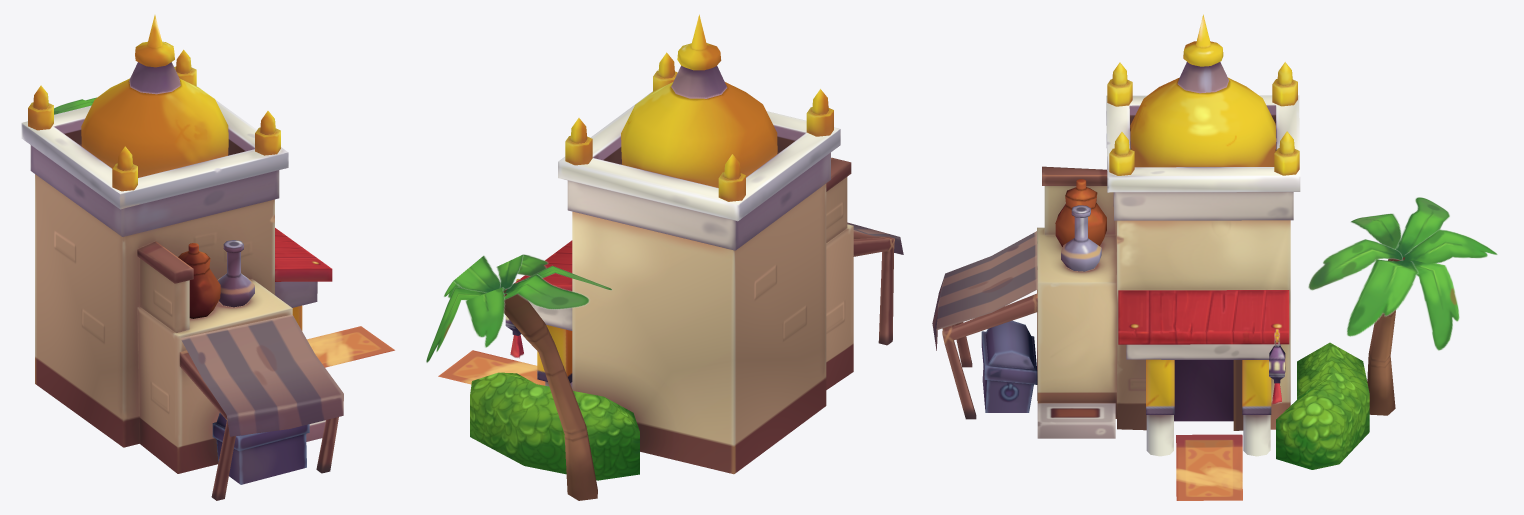
The model's file is stylized_house.glb.
3 views of the same model, side by side, from view 1: azimuth 30°, elevation 25°; view 2: azimuth 150°, elevation 25°; view 3: azimuth 270°, elevation 25° (orthographic). The views are drawn at different scales.
Visible parts, largest first — view 1: House; view 2: House; view 3: House.
Part boxes in pixels (x1,y1,x2,y2): House: (21,15,394,500); House: (426,14,903,500); House: (932,14,1497,500).
Size of the model in its own units: 2.77 by 3.32 by 4.49.
Materials: 1 (1 with a texture image).
